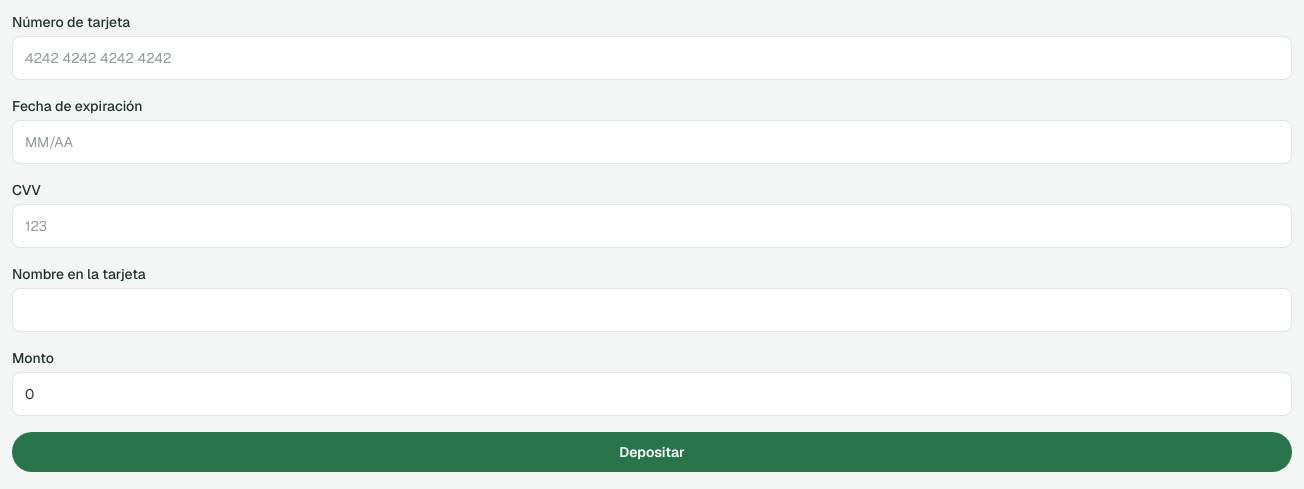
Test: DepositForm › clears every input once the deposit is accepted
Type "4242424242424242" into the field labelled "Número de tarjeta". click: (652,58)
box: [12,36,1292,80]
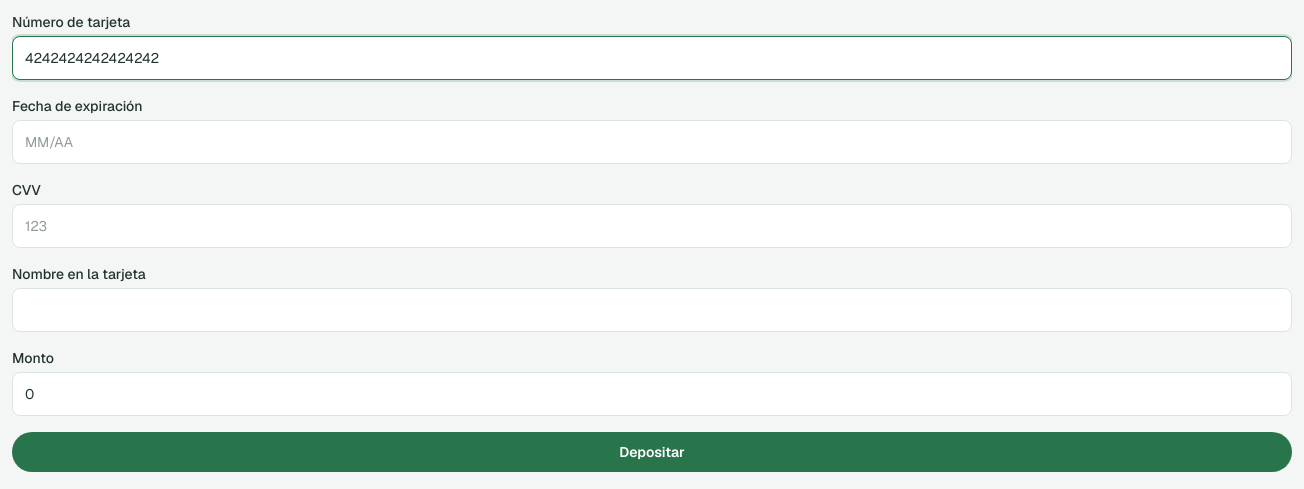
Type "12/30" into the field labelled "Fecha de expiración". click: (652,142)
box: [12,120,1292,164]
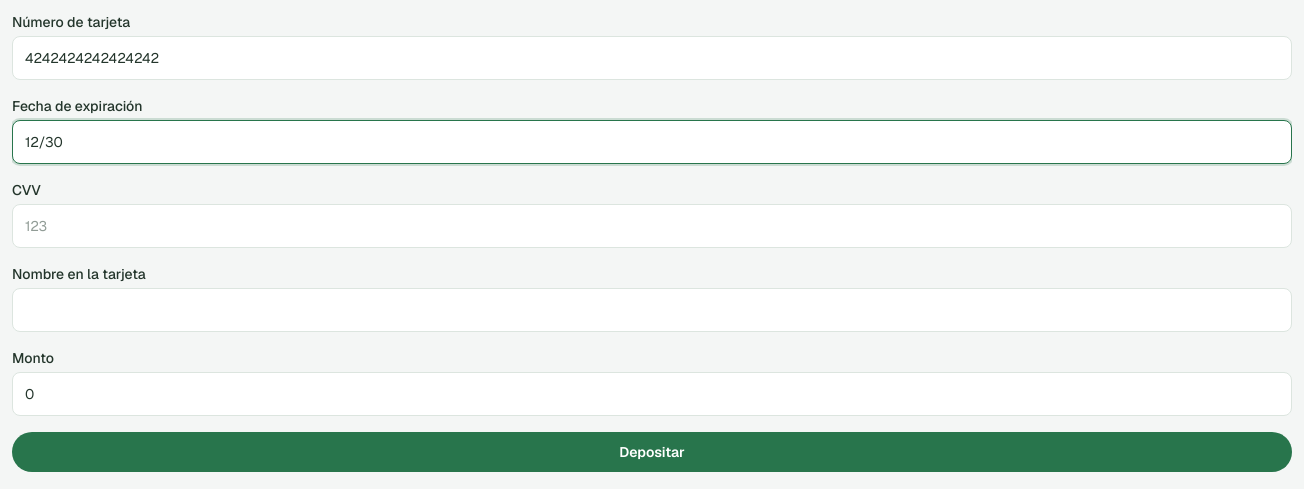
Type "123" into the password field labelled "CVV". click: (652,226)
box: [12,204,1292,248]
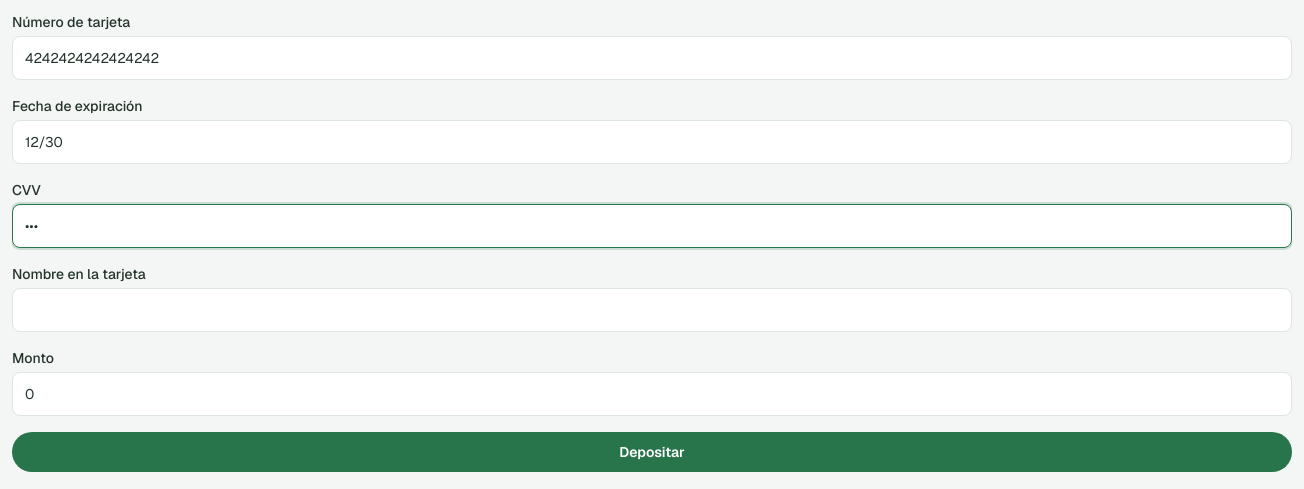
Type "Ana Martínez" into the field labelled "Nombre en la tarjeta". click: (652,310)
box: [12,288,1292,332]
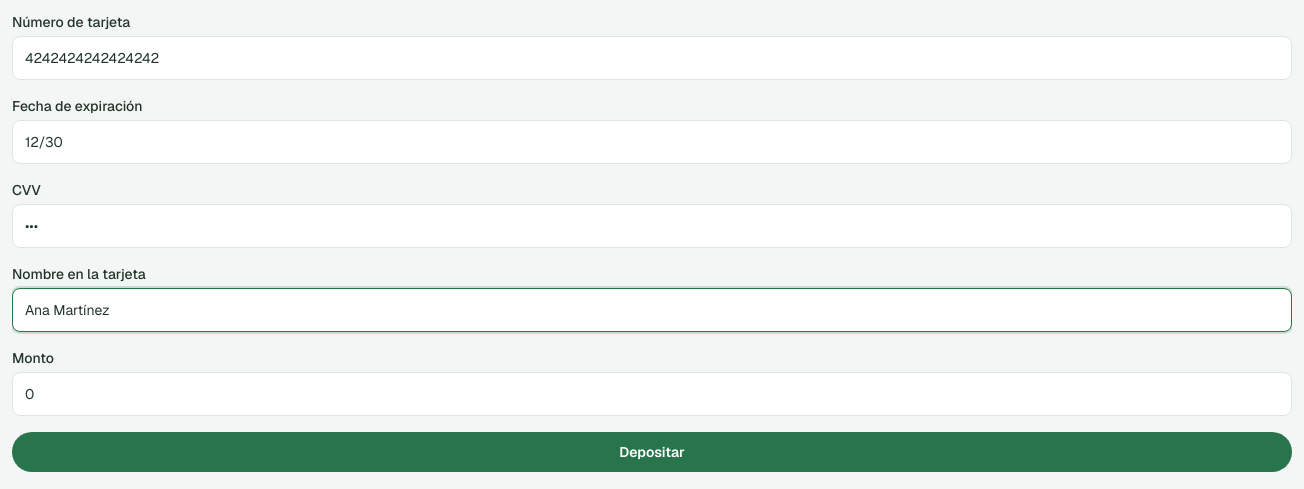
Type "500" into the number field labelled "Monto". click: (652,394)
box: [12,372,1292,416]
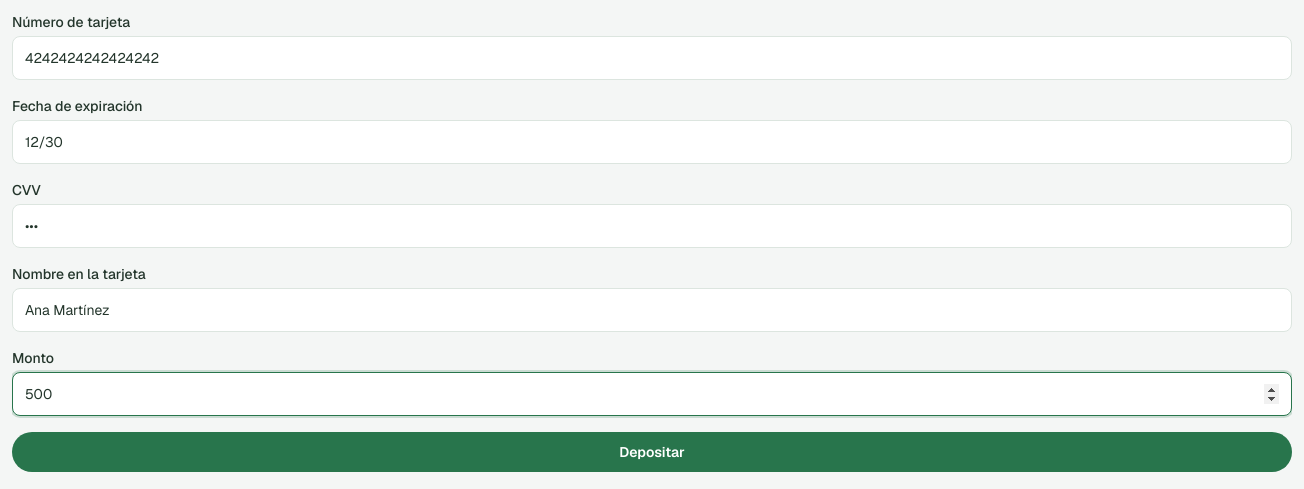
Click the button "Depositar". click: (652,452)
box: [12,432,1292,472]
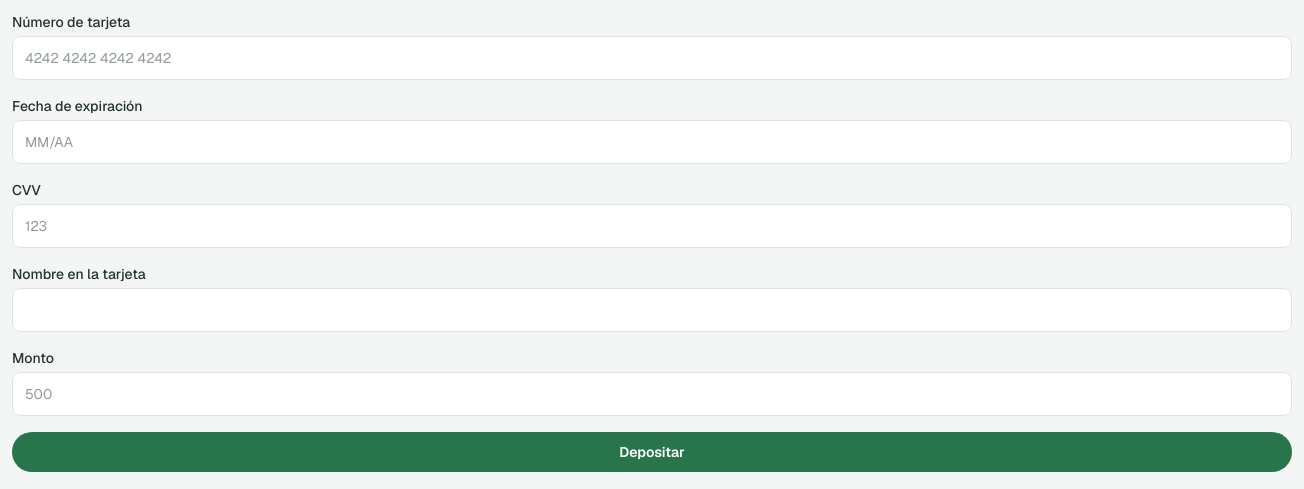
Check: the field labelled "Número de tarjeta" is empty, box [12,36,1292,80]
Check: the number field labelled "Monto" is not empty, box [12,372,1292,416]
